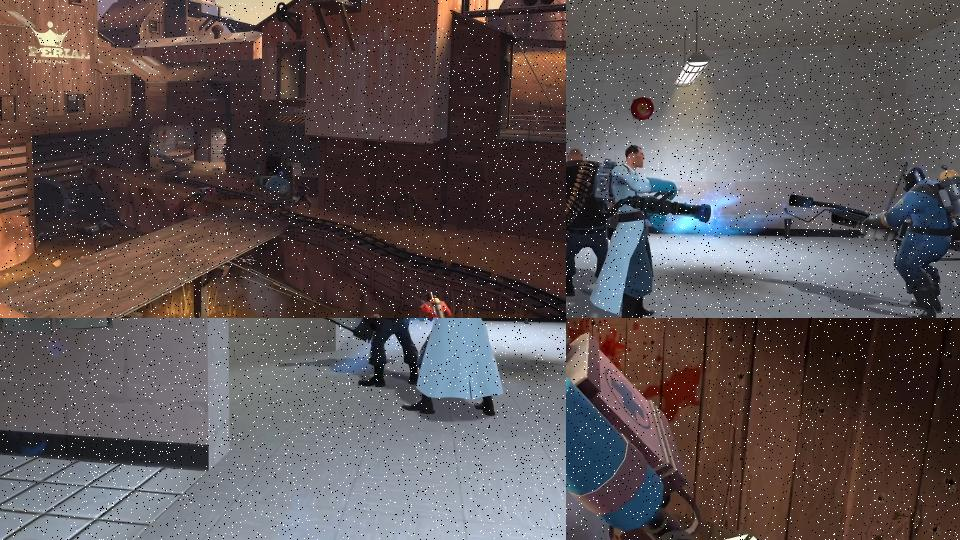Enemy: (566, 318, 868, 540), (784, 164, 960, 318), (589, 145, 713, 318), (400, 318, 505, 416), (300, 318, 434, 387), (566, 148, 615, 295), (404, 291, 452, 318), (293, 181, 314, 215)
